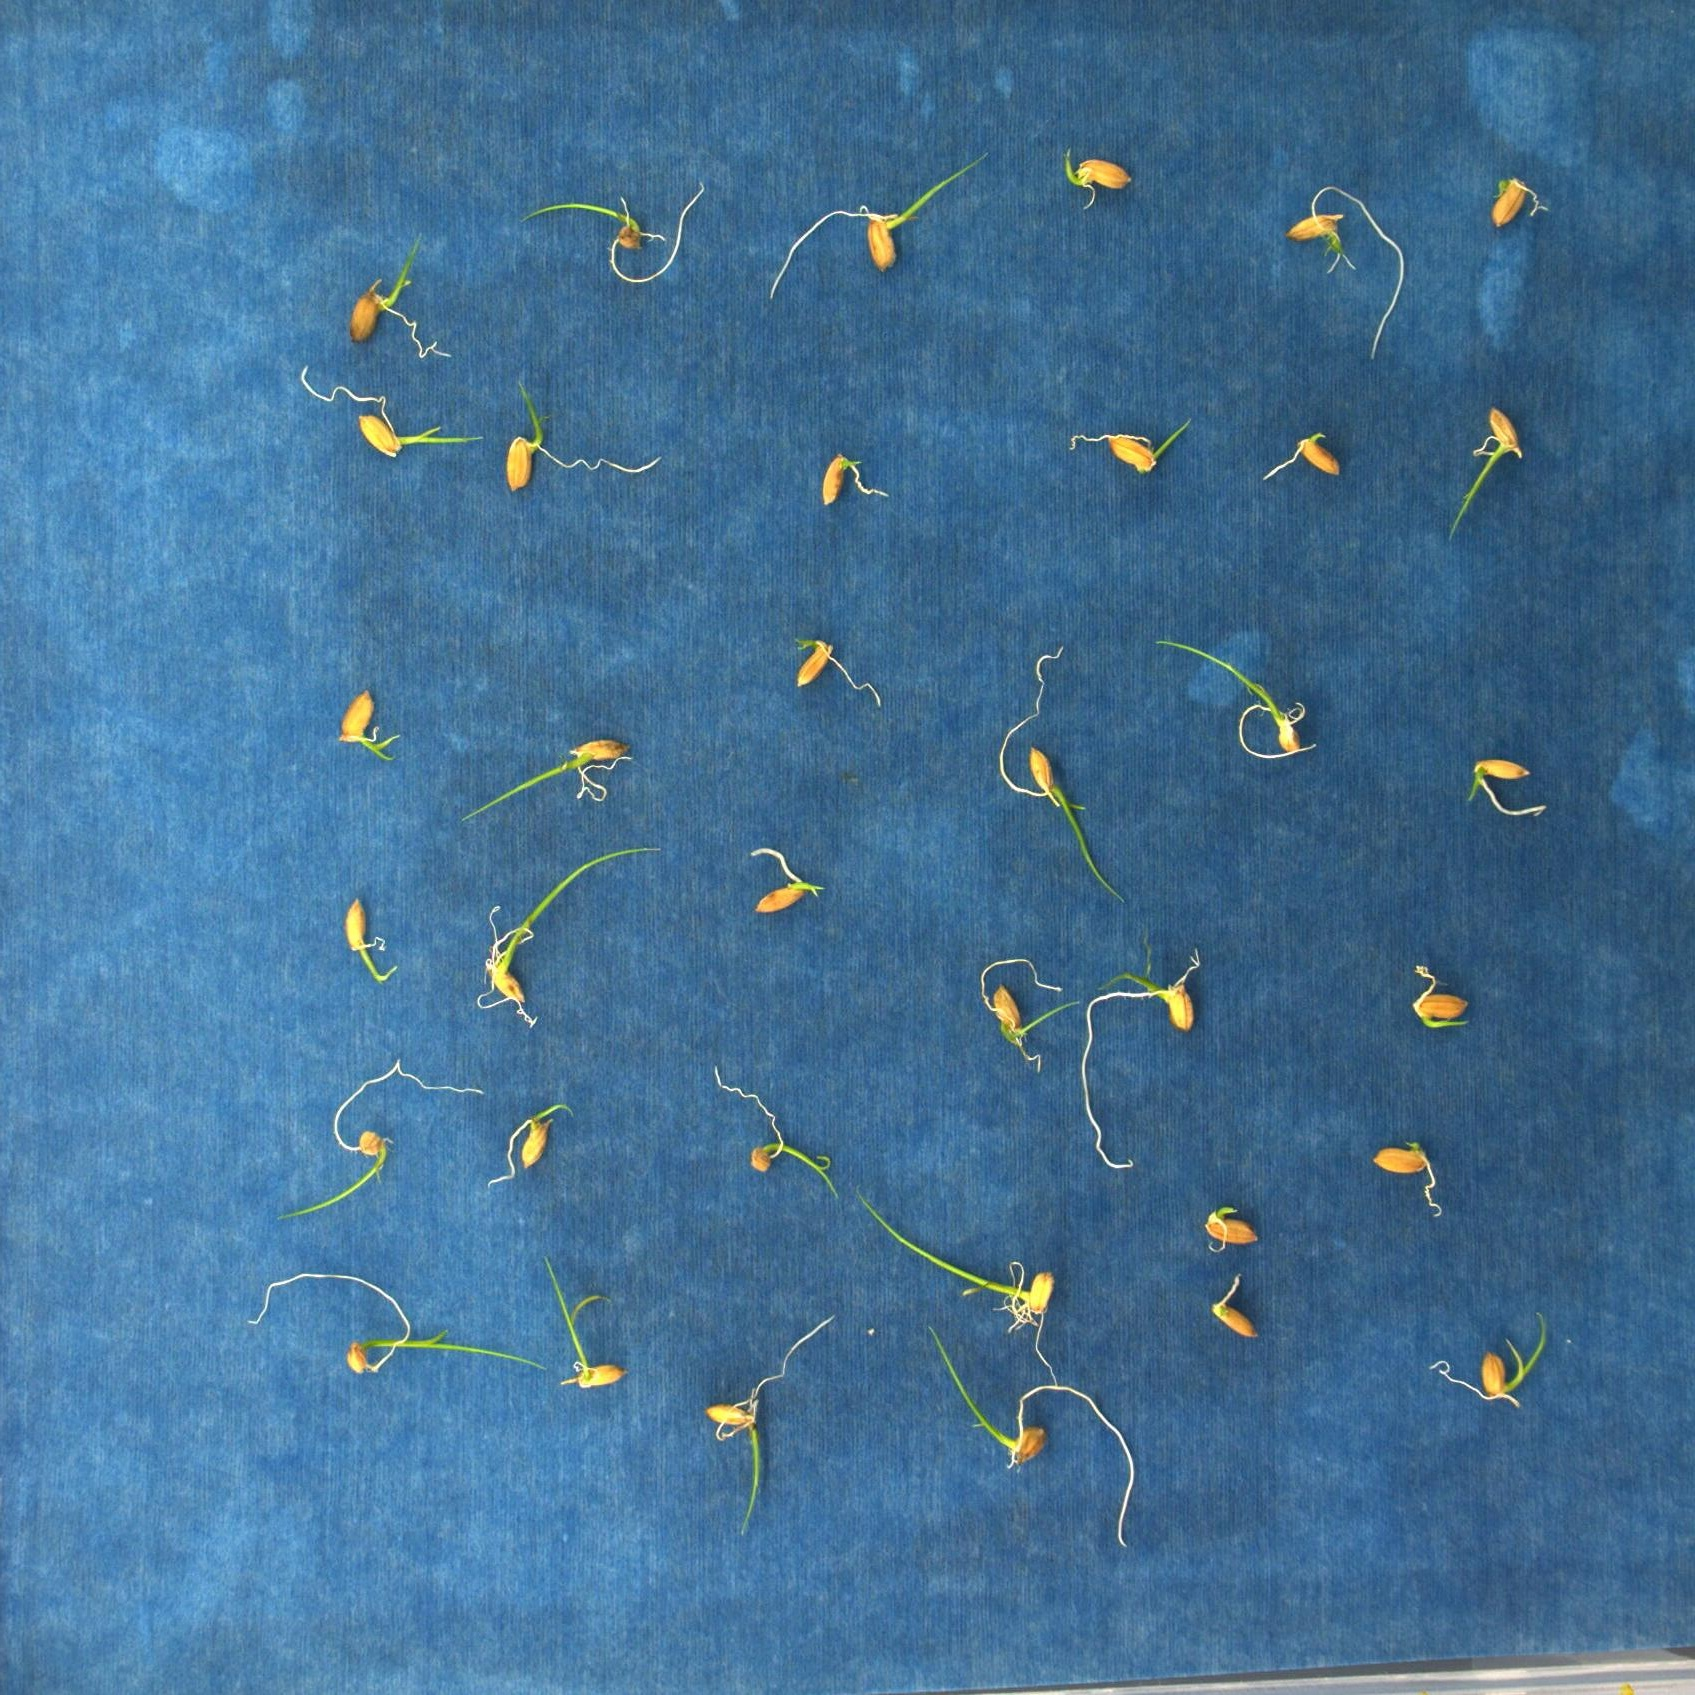not sprout: (1374, 1138, 1439, 1218), (824, 453, 889, 512), (1206, 1271, 1257, 1338), (1270, 432, 1340, 478), (1201, 1198, 1263, 1248), (1489, 175, 1538, 233)
sprout: (927, 1319, 1133, 1544), (854, 1192, 1060, 1391), (472, 844, 666, 1028), (770, 147, 993, 296), (276, 1059, 484, 1218), (1001, 643, 1125, 905), (248, 1271, 548, 1378), (705, 1313, 837, 1537), (1087, 925, 1201, 1170), (1285, 182, 1405, 365), (1155, 638, 1316, 757), (520, 182, 705, 281), (506, 377, 660, 495), (712, 1063, 840, 1201), (300, 366, 484, 456), (456, 736, 633, 821), (352, 234, 450, 362), (975, 958, 1080, 1073), (1419, 1310, 1544, 1406), (539, 1257, 629, 1386), (1447, 405, 1518, 540), (1068, 413, 1187, 477), (492, 1099, 577, 1184), (792, 633, 883, 708), (744, 847, 826, 914), (334, 688, 400, 761), (1464, 759, 1544, 815), (1062, 144, 1130, 206), (343, 899, 394, 981), (1411, 964, 1467, 1031)
